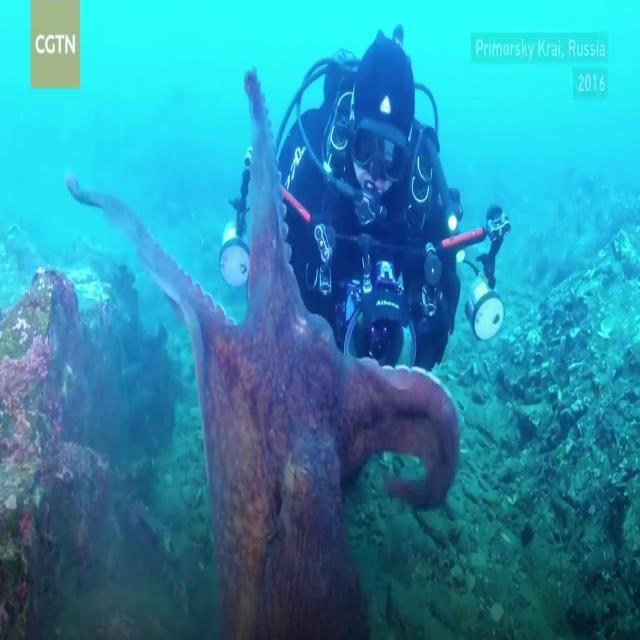octopus: (65, 66, 459, 640)
